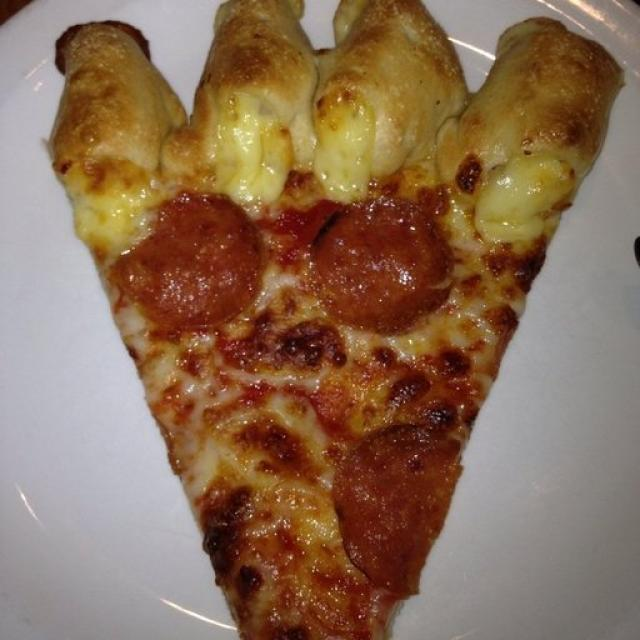Pepperoni: (335, 424, 461, 593), (122, 188, 267, 327), (307, 200, 449, 320)
Pizza: (46, 0, 625, 640)
